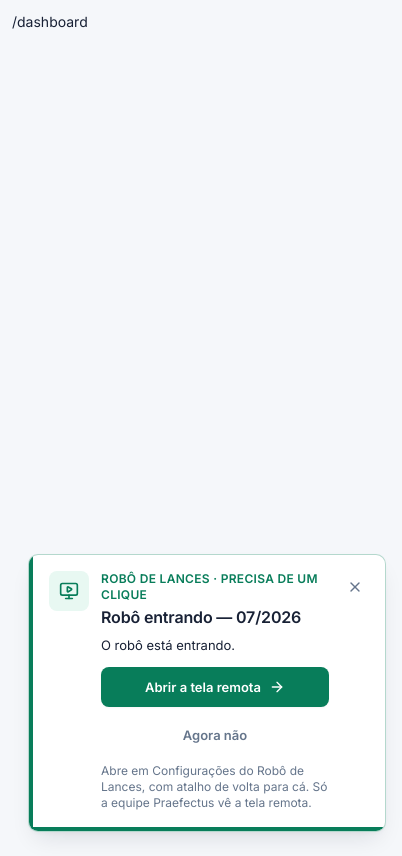
Test: ChamadaDaTelaRemota › aviso sem disputa, fora da tela do robô: leva ao admin sem atalho de volta
Click the button "Abrir a tela remota" at (215, 687), box top-left (101, 667), bottom-right (329, 707)
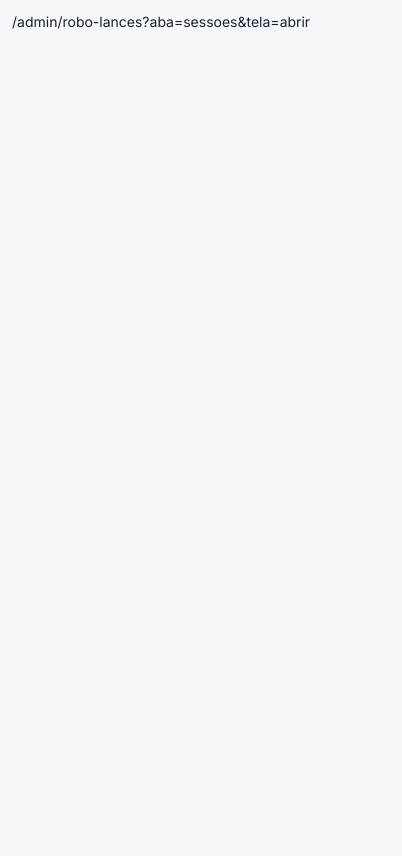
Result: the text with test id "local" reads "/admin/robo-lances?aba=sessoes&tela=abrir" at top-left (12, 13), bottom-right (310, 30)
